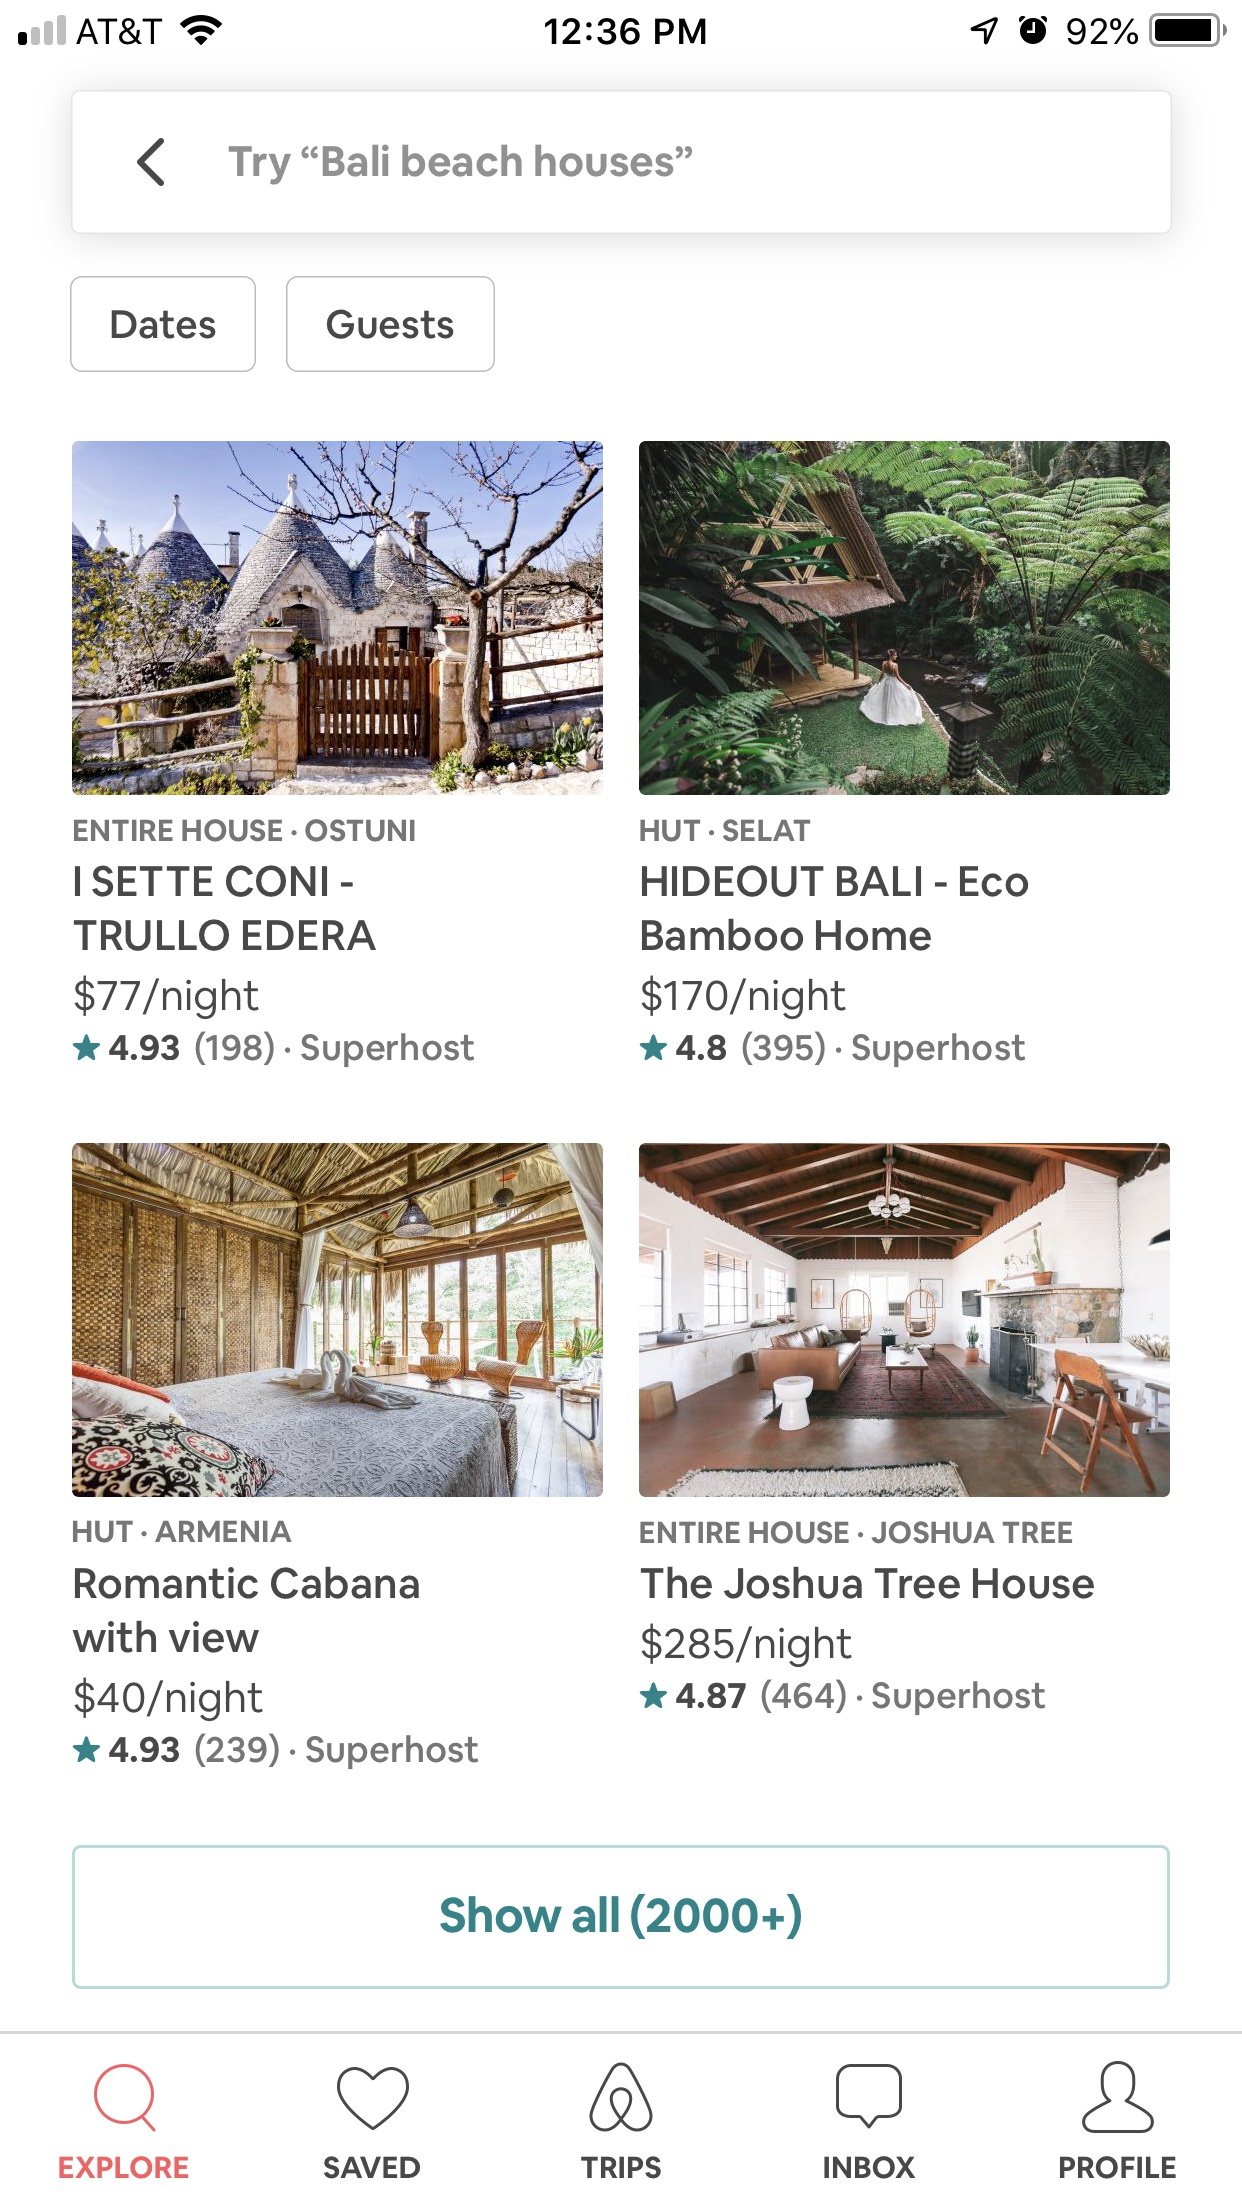EditText: (71, 89, 1172, 235)
Icon: (1081, 2059, 1156, 2134), (337, 2067, 409, 2131), (836, 2064, 902, 2131), (94, 2064, 158, 2134), (138, 138, 165, 188), (73, 1736, 102, 1764), (638, 1034, 667, 1062), (73, 1034, 102, 1062), (640, 1682, 667, 1709)
Image: (71, 441, 604, 796), (638, 441, 1171, 796), (71, 1143, 604, 1498), (638, 1143, 1171, 1498), (588, 2062, 654, 2132)
Text: (641, 1567, 1095, 1668), (641, 864, 1030, 952), (73, 1567, 420, 1654), (74, 864, 378, 952), (227, 144, 693, 187), (676, 1679, 1046, 1717), (109, 1732, 479, 1770), (675, 1030, 1027, 1068), (109, 1031, 475, 1068), (640, 1521, 1074, 1544), (641, 974, 848, 1021), (74, 1677, 264, 1723), (74, 975, 259, 1021), (74, 819, 416, 843), (73, 1520, 293, 1544), (638, 819, 811, 843), (61, 2155, 190, 2179), (1059, 2155, 1175, 2179), (823, 2155, 916, 2179), (325, 2156, 422, 2179), (581, 2155, 663, 2179)
TextButton: (71, 1844, 1171, 1990), (287, 276, 496, 373), (70, 276, 256, 373)
UpperTaskBar: (2, 2, 1242, 49)
